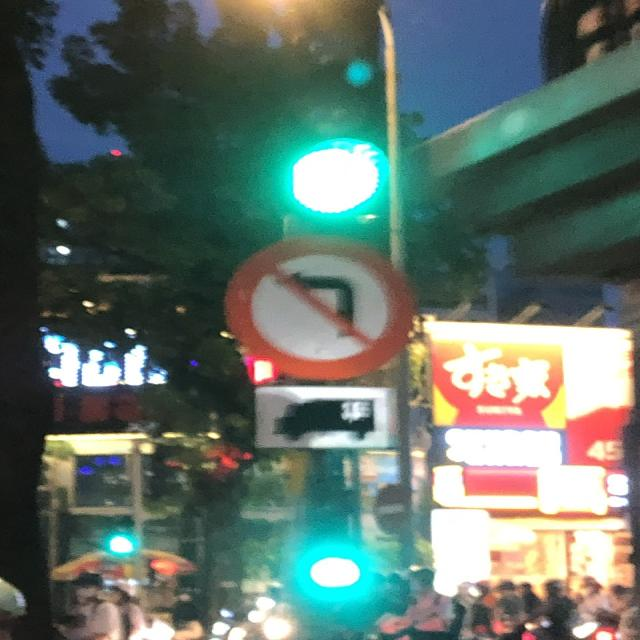Bien bao cam re trai: (212, 232, 426, 379)
